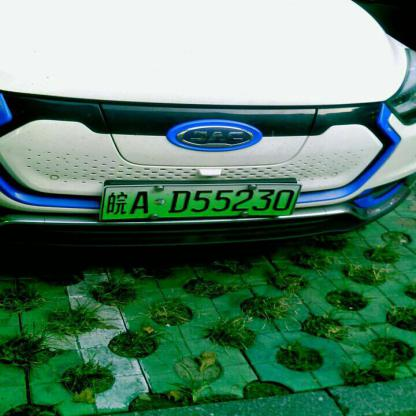lp: (102, 186, 300, 219)
